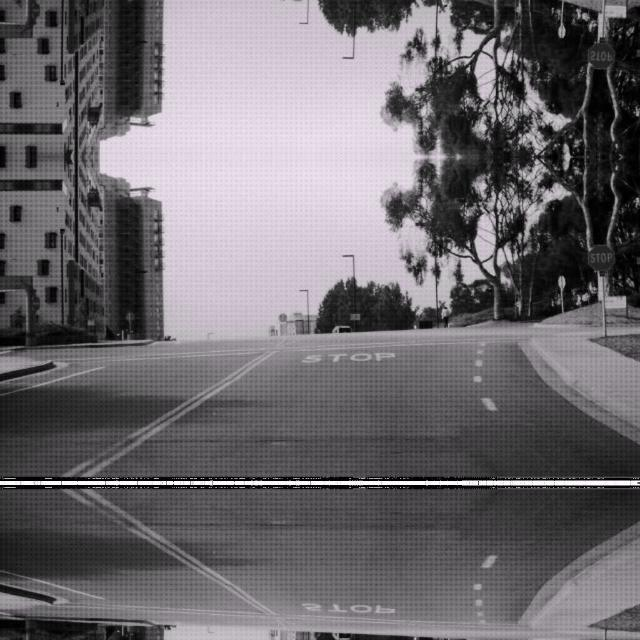stop: (588, 242, 614, 270), (588, 42, 614, 70)
